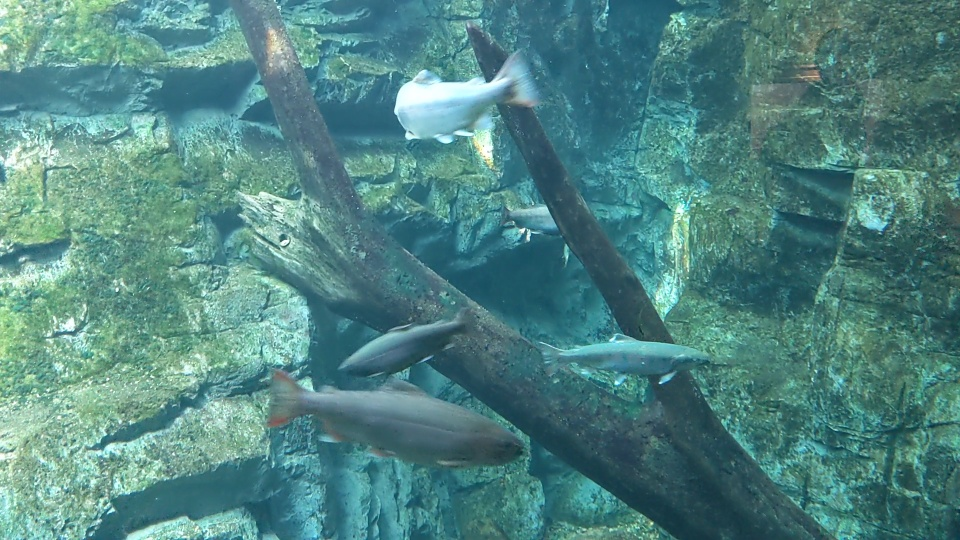Fish: (266, 365, 522, 469), (396, 43, 540, 145), (337, 309, 472, 375), (539, 328, 707, 379), (499, 198, 565, 237)
